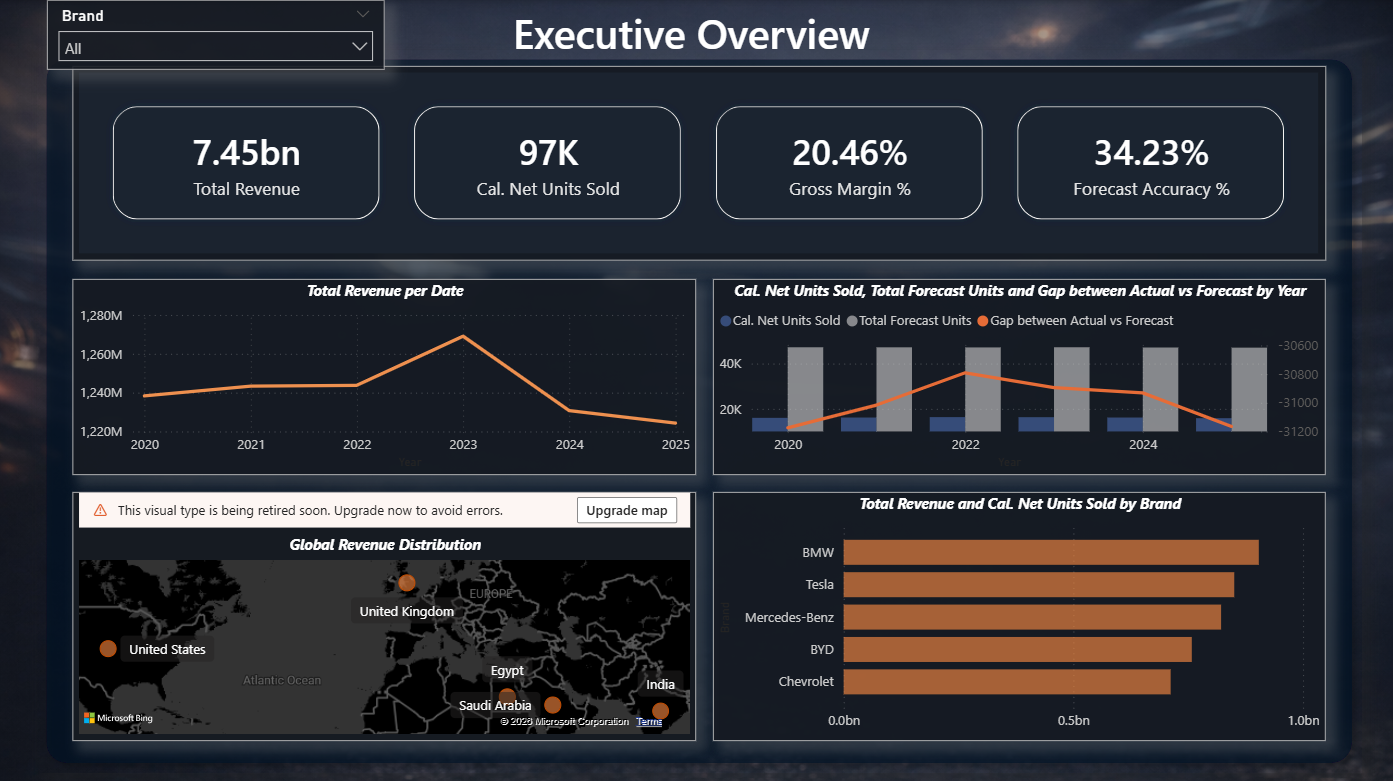

This screenshot's page, from the dashboard's own definition file:
{"tool":"powerbi","page":{"name":"Executive Overview","canvas":[1280,720],"ordinal":0},"visuals":[{"type":"shape","box":[34.3,45.7,1217.1,664.3],"z":0},{"type":"cardVisual","fields":{"Data":["_Measure Executive Overview.Total Revenue","_Measure Executive Overview.Cal. Net Units Sold","_Measure Executive Overview.Gross Margin %","_Measure Executive Overview.Forecast Accuracy %"]},"box":[67.1,60,1151.4,178.6],"z":1000},{"type":"textbox","box":[467.1,0,345.7,60],"z":2000},{"type":"lineChart","title":"Total Revenue per Date","fields":{"Category":["DimDate.Date.Variation.Date Hierarchy.Year","DimDate.Date.Variation.Date Hierarchy.Quarter","DimDate.Date.Variation.Date Hierarchy.Month","DimDate.Date.Variation.Date Hierarchy.Day"],"Y":["_Measure Executive Overview.Total Revenue"]},"box":[67.1,255.7,572.9,180],"z":3000},{"type":"lineClusteredColumnComboChart","fields":{"Category":["DimDate.Month_Start.Variation.Date Hierarchy.Year","DimDate.Month_Start.Variation.Date Hierarchy.Quarter","DimDate.Month_Start.Variation.Date Hierarchy.Month","DimDate.Month_Start.Variation.Date Hierarchy.Day"],"Y":["_Measues.Cal. Net Units Sold","_Measues.Total Forecast Units"],"Y2":["_Measues.Gap between Actual vs Forecast"]},"box":[655.7,255.7,562.9,180],"z":4000},{"type":"barChart","fields":{"Category":["DimCars.Brand"],"Y":["_Measure Executive Overview.Total Revenue"]},"box":[655.7,451.4,562.9,228.6],"z":5000},{"type":"map","title":"Global Revenue Distribution","fields":{"Category":["DimCountry.Country"],"Size":["_Measure Executive Overview.Total Revenue"]},"box":[67.1,451.4,572.9,228.6],"z":6000},{"type":"slicer","fields":{"Values":["DimCars.Brand"]},"box":[44.3,0,310,64.3],"z":7000}]}

Visuals, with their boxes in screenshot pixels (x1, y1, x2, y2), scaled from the page's 1280x720 canvas onto the 1393x781 screenshot:
shape: 37,50,1362,770
cardVisual - _Measure Executive Overview.Total Revenue x _Measure Executive Overview.Cal. Net Units Sold: 73,65,1326,259
textbox: 508,0,885,65
"Total Revenue per Date" lineChart: 73,277,696,473
lineClusteredColumnComboChart - DimDate.Month_Start.Variation.Date Hierarchy.Year x DimDate.Month_Start.Variation.Date Hierarchy.Quarter: 714,277,1326,473
barChart - DimCars.Brand x _Measure Executive Overview.Total Revenue: 714,490,1326,738
"Global Revenue Distribution" map: 73,490,696,738
slicer - DimCars.Brand: 48,0,386,70
